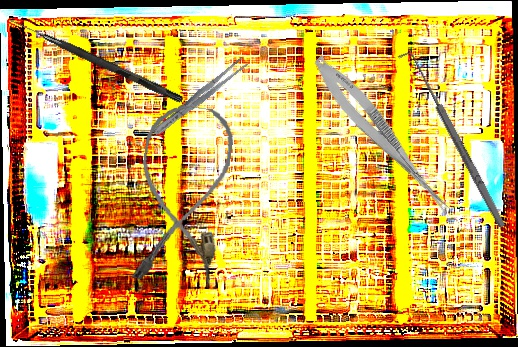Cannula: (127, 100, 237, 290)
Dressing Forceps: (150, 55, 250, 139)
Hook Surgical: (396, 46, 510, 234), (6, 16, 185, 104)
Micro Scissor: (305, 50, 464, 223)
